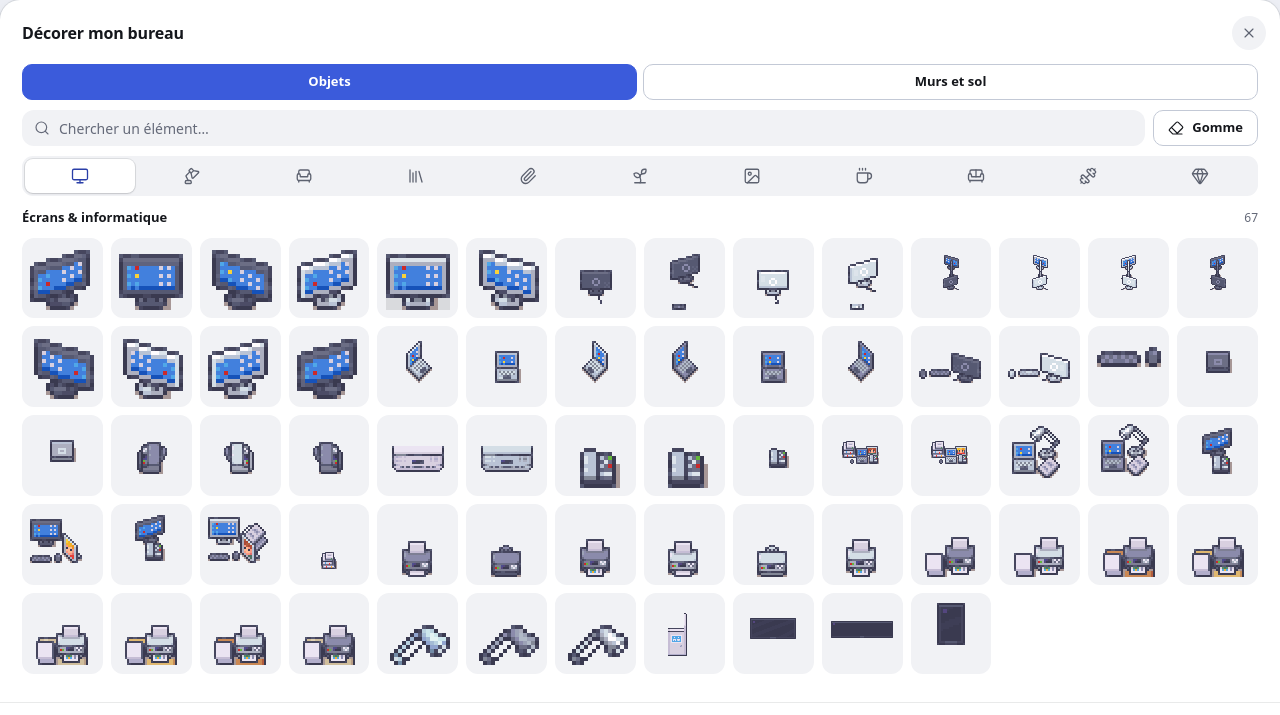
it: avec un bureau › une recherche porte sur toute la banque
Type "canape" into the search field labelled "Chercher un élément" at (584, 128), box [22, 110, 1145, 146]
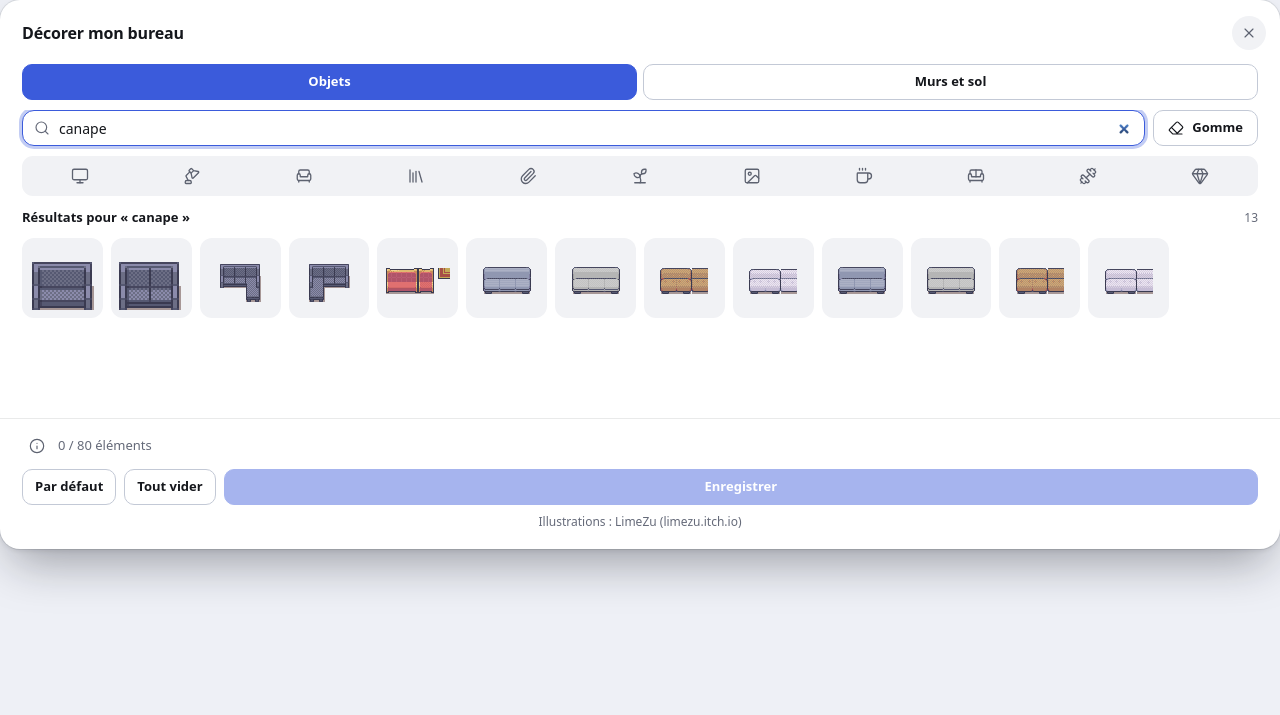
Replace the text in the search field named "Chercher un élément" with "zzzz" at (584, 128), box [22, 110, 1145, 146]
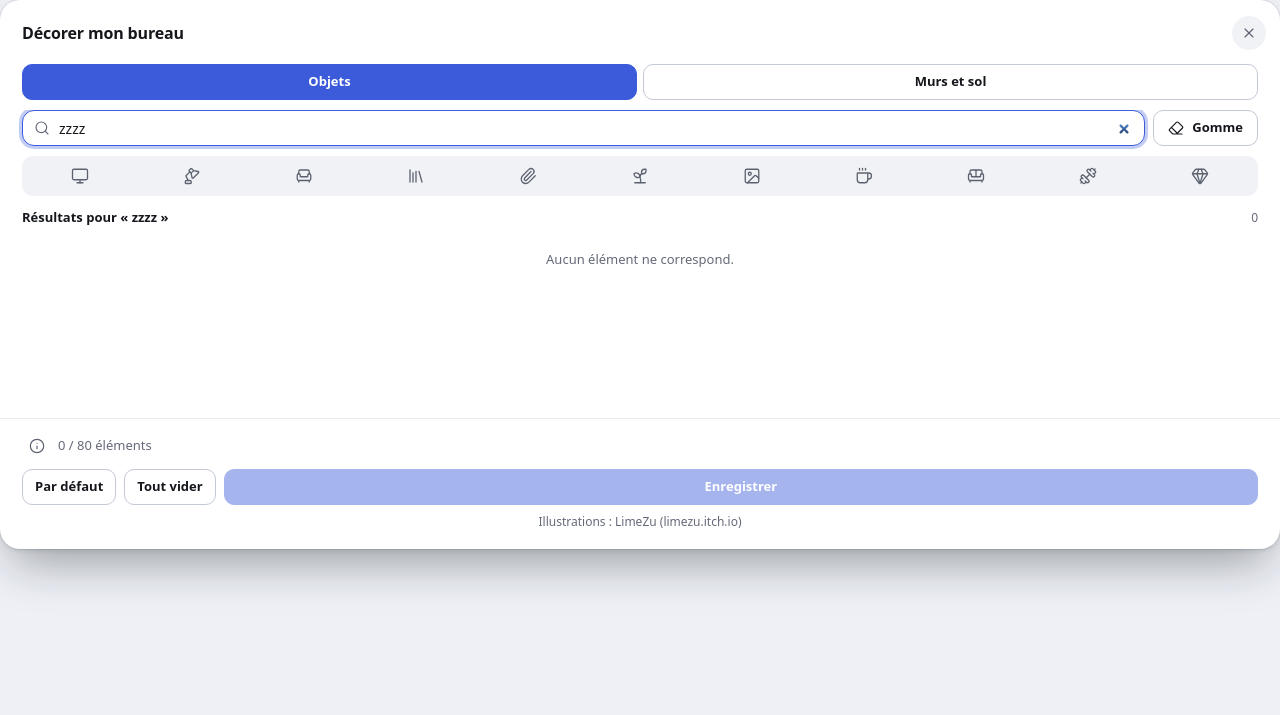
Check: the text "Aucun élément ne correspond." is shown, box [546, 250, 734, 268]
